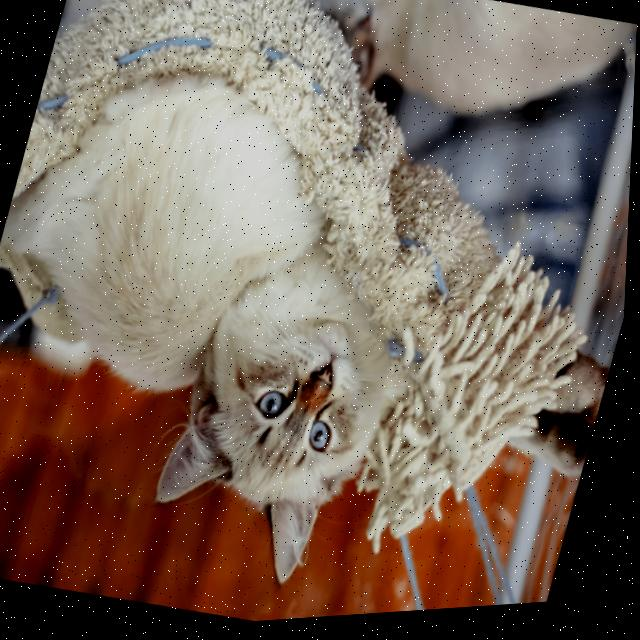Neva Masquerade: (0, 18, 485, 627)
